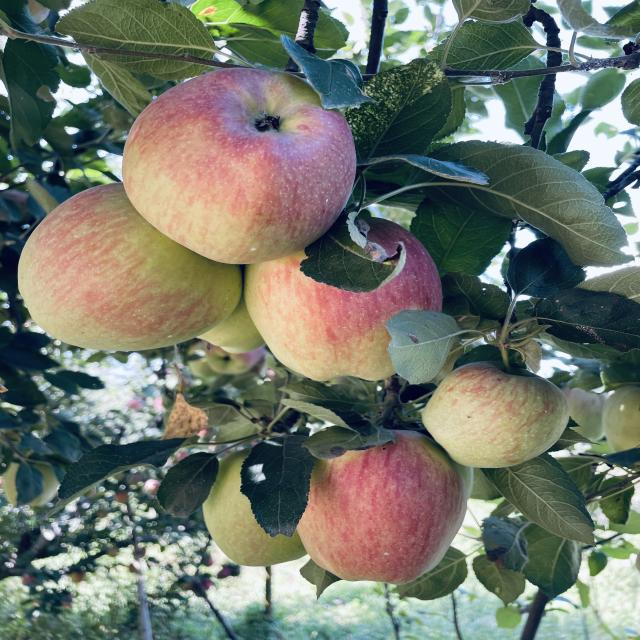Apple: (122, 69, 357, 264), (18, 182, 242, 351), (243, 218, 442, 381), (297, 430, 467, 585), (422, 362, 568, 468)
